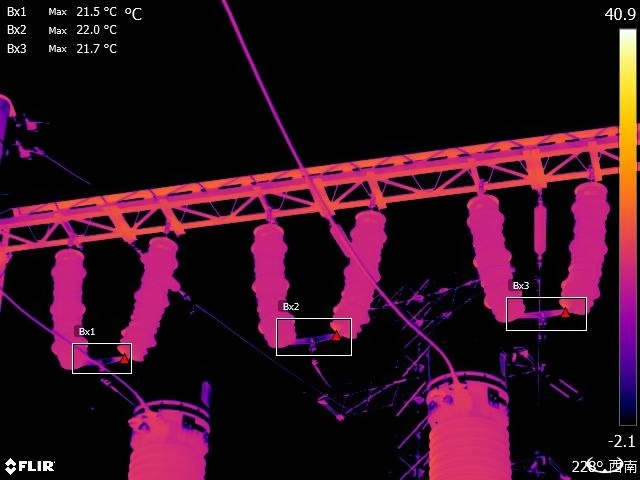current transformer: (412, 329, 530, 480), (120, 360, 221, 480)
insulator: (328, 204, 396, 336), (120, 230, 183, 361), (468, 185, 529, 320), (555, 173, 612, 316), (250, 212, 299, 352), (47, 239, 98, 370), (527, 201, 557, 263), (325, 218, 350, 262)
